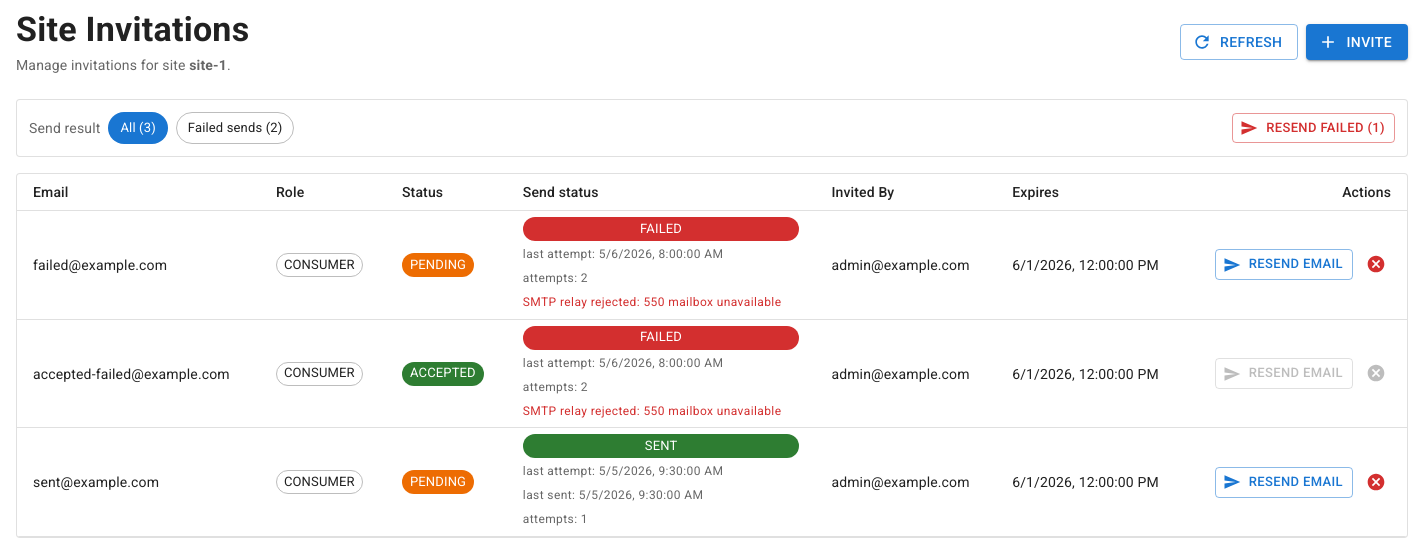
Test: SiteInvitationsPage bulk failed resend › resends only failed PENDING invitations and replaces returned rows
The image size is (1426, 555).
Expected: the text "failed@example.com" is shown, [33, 257, 167, 273]
Click the button with aria-label "Resend all failed pending invitations (1)" at (1314, 128), box [1232, 113, 1395, 143]
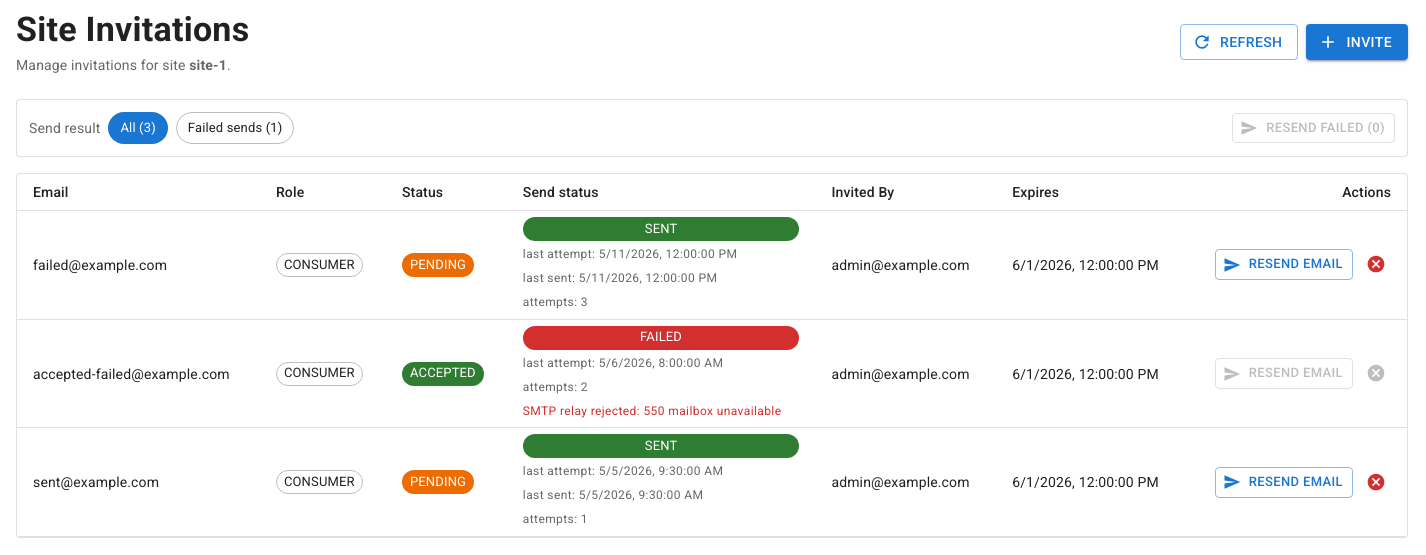
Expected: the row that starts with "failed@example.com" is shown, [17, 210, 1407, 319]
Now the 1st text "SENT" is shown, box [645, 221, 677, 236]
Now the text "attempts: 3" is shown, box [523, 295, 588, 309]
